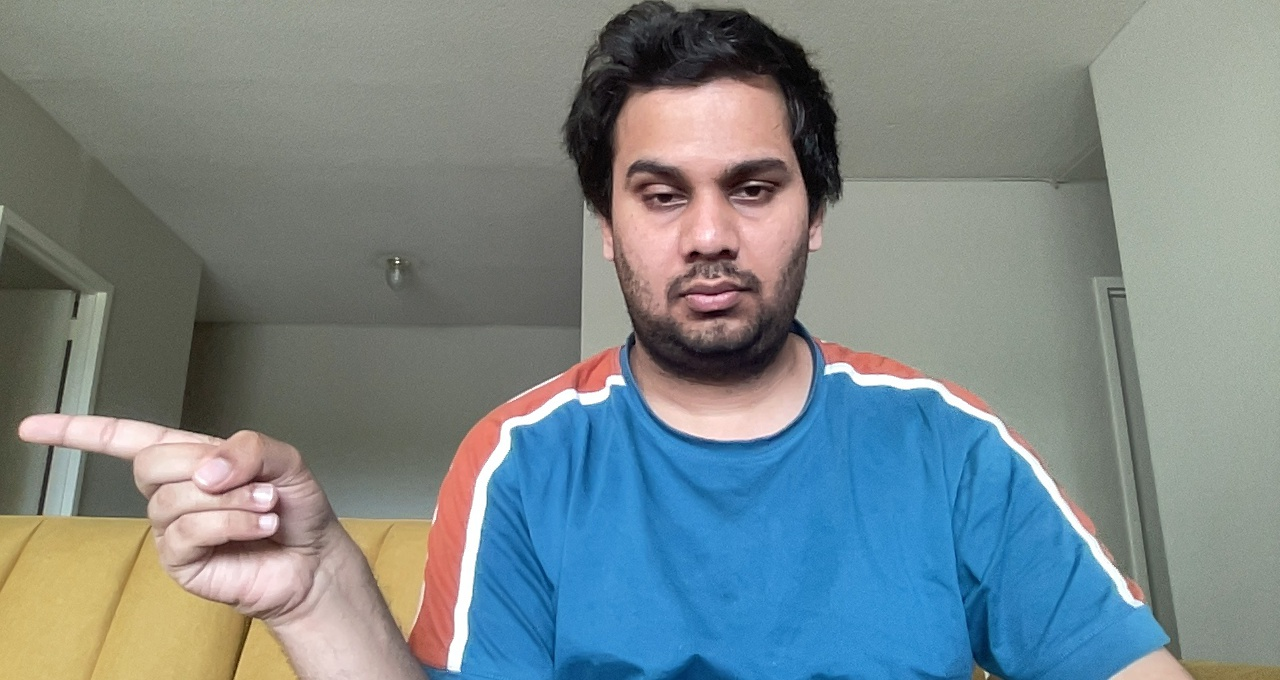fingerright: (14, 402, 329, 625)
